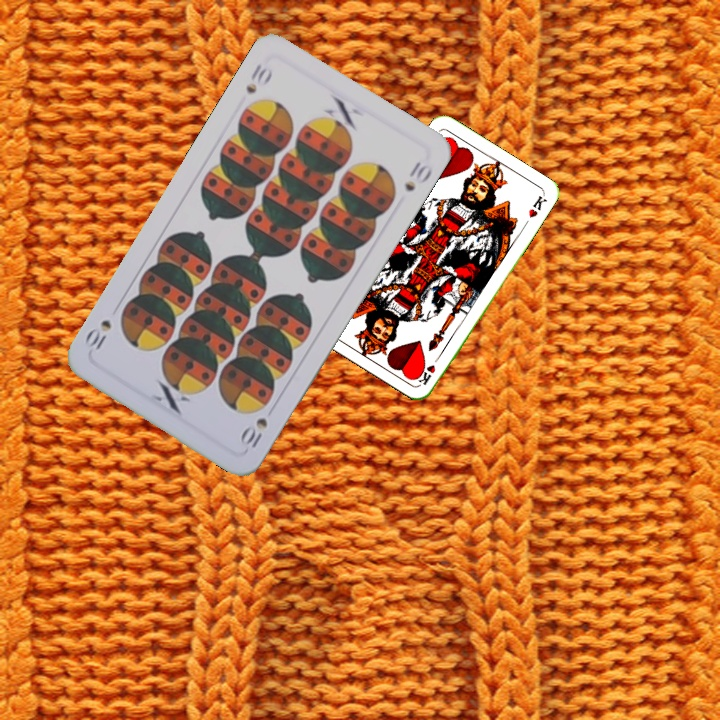HK: (415, 350, 444, 388)
S10: (241, 59, 275, 97), (238, 413, 271, 451)
